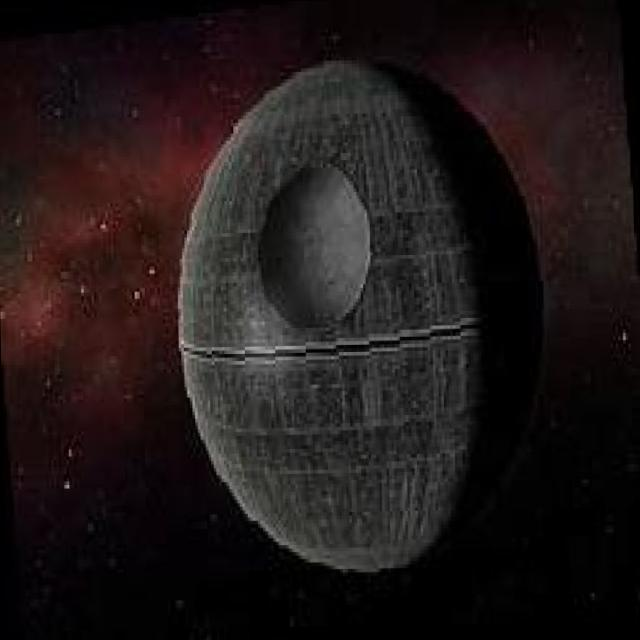Death Star: (141, 44, 573, 596)
